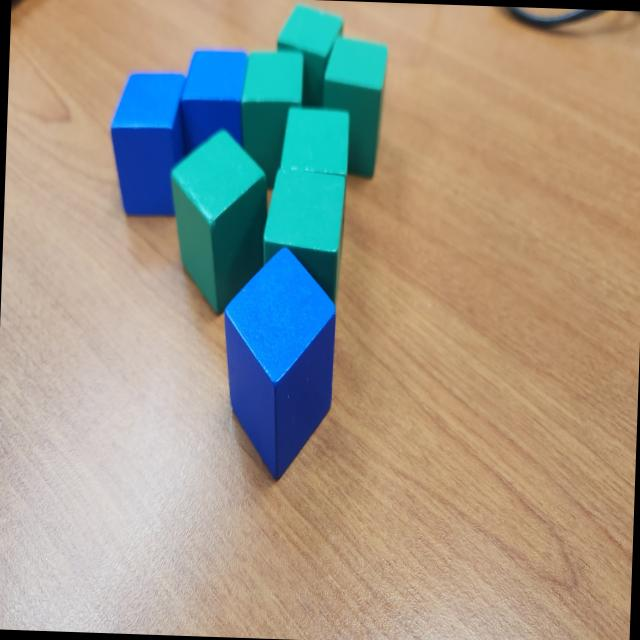blue: (218, 245, 338, 485), (106, 70, 191, 218), (177, 47, 249, 162)
green: (166, 125, 272, 317), (260, 172, 346, 312), (276, 99, 351, 254), (237, 46, 306, 190), (321, 35, 390, 178), (273, 0, 345, 110)
